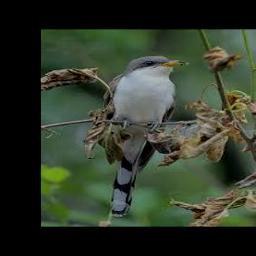Cuckoo: (104, 55, 189, 217)
